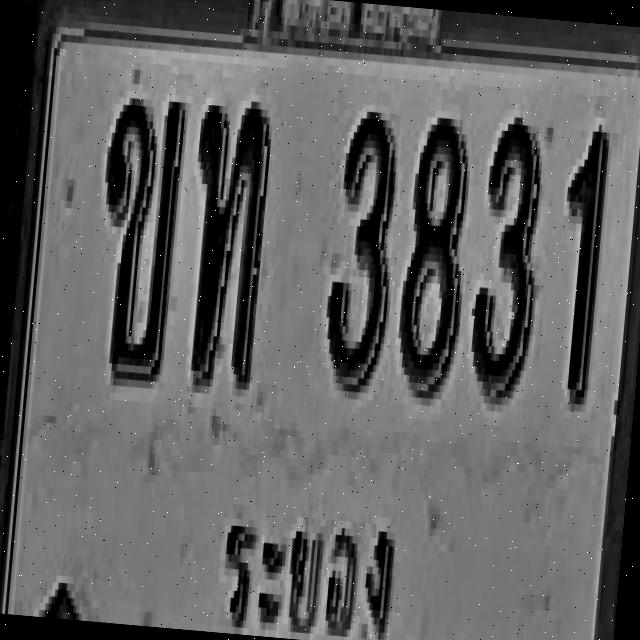1: (549, 122, 610, 405)
11KhorKhai: (88, 88, 186, 382)
3: (320, 102, 404, 394), (465, 111, 549, 403)
32ThorThaHan: (178, 96, 274, 390)
8: (393, 108, 474, 400)
Rayong: (204, 487, 408, 640)
